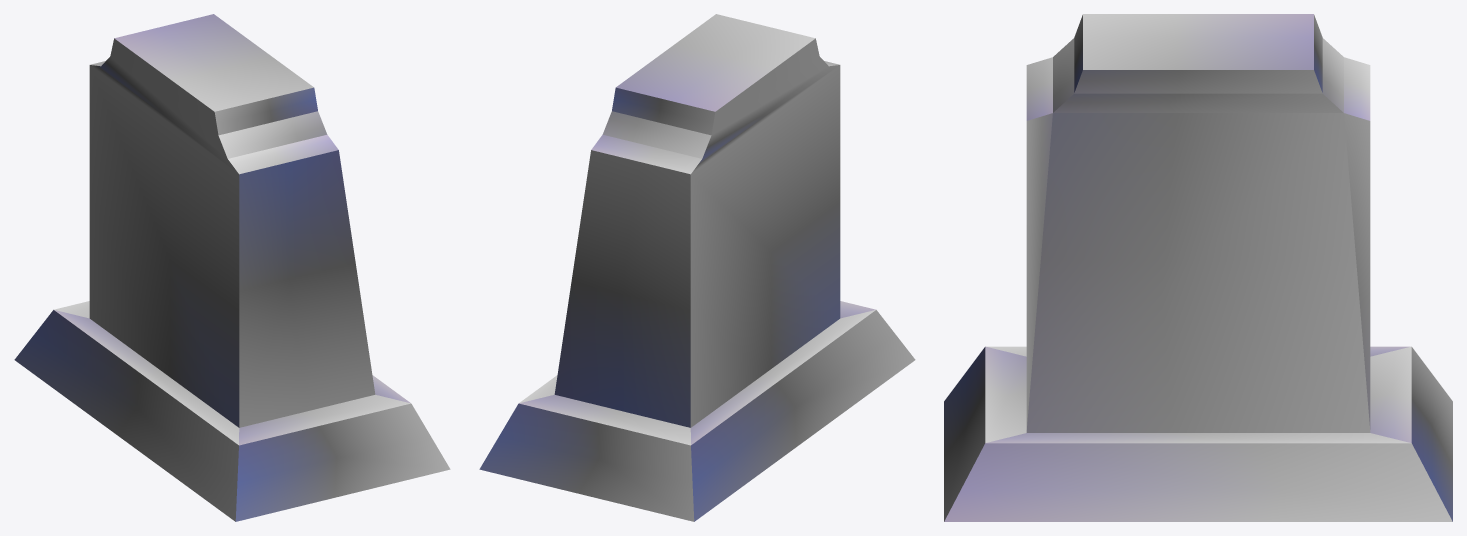
File: tombStone01.fbx
The picture shows the model from 3 angles, left to right: view 1: azimuth 30°, elevation 25°; view 2: azimuth 150°, elevation 25°; view 3: azimuth 270°, elevation 25°; orthographic projection. The views are drawn at different scales.
Parts seen in each view (by area): view 1: tombStone01; view 2: tombStone01; view 3: tombStone01.
Boxes of the visible parts, box(x1,y1,x2,y2) form: tombStone01: box(14, 14, 450, 521); tombStone01: box(479, 14, 915, 521); tombStone01: box(944, 14, 1452, 521).
Size of the model in its own units: 78.9 by 125 by 141.
